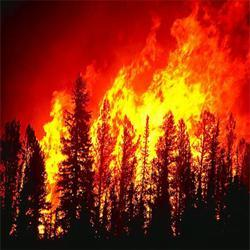fire: (117, 79, 207, 121), (45, 124, 68, 179)
